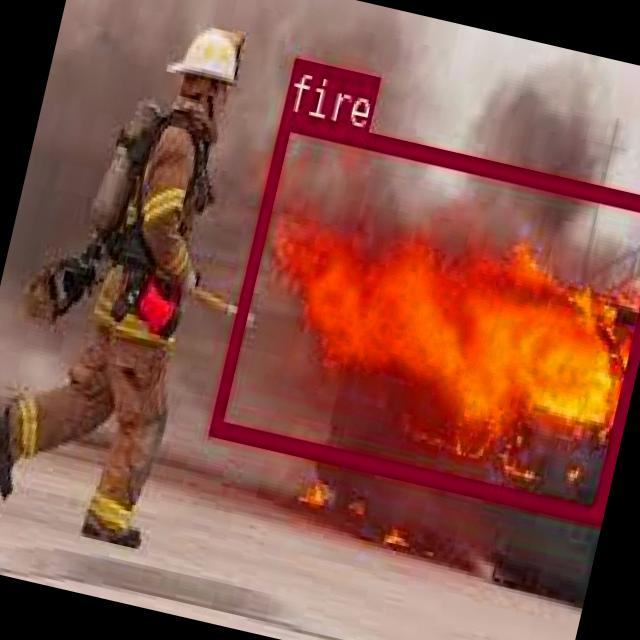fire: (207, 110, 640, 519)
